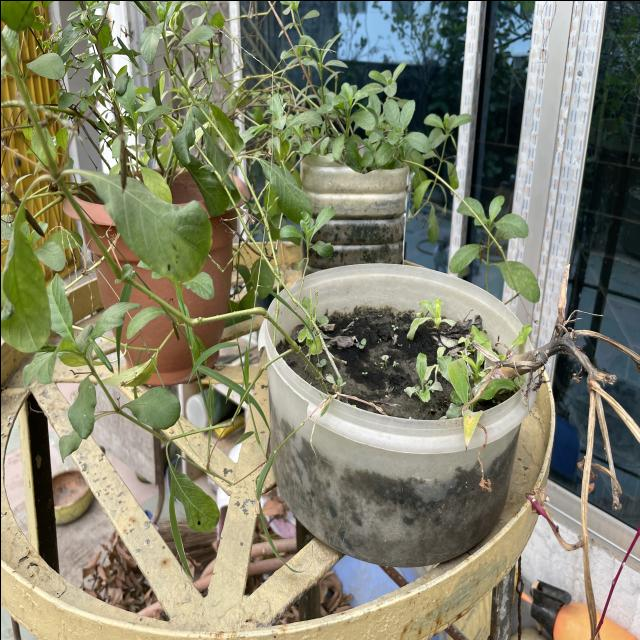Breeding Place: (268, 257, 526, 555), (282, 92, 413, 260), (52, 166, 243, 242), (40, 462, 94, 526)
